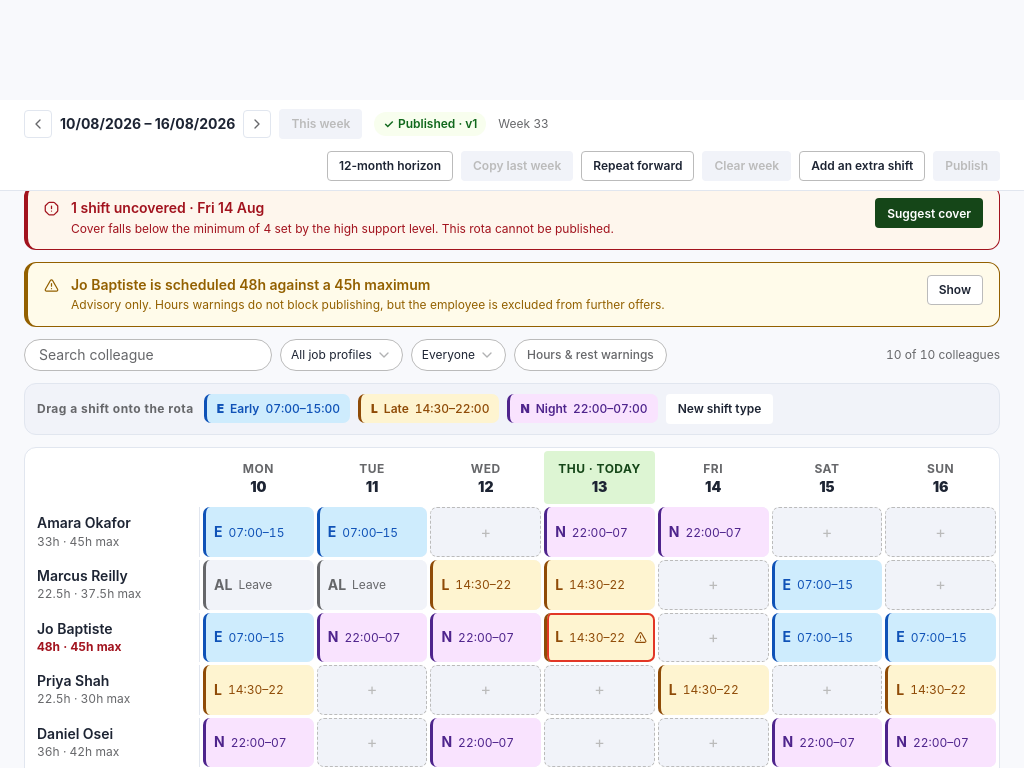
Test: Team rota › renders the published week: the week bar, the gap banner, the grid with its cover row and key, the day view and the history, with full test id coverage
The width and height of the screenshot is (1024, 768).
Expected: the text with test id "trota-week-label" reads "10/08/2026 – 16/08/2026", [60,115,235,132]
Expected: the element with test id "trota-state" shows "Published · v1", [374,112,486,136]
Type "Amara" into the search field with test id "trota-search". click: point(148, 355)
box: [24,339,272,371]
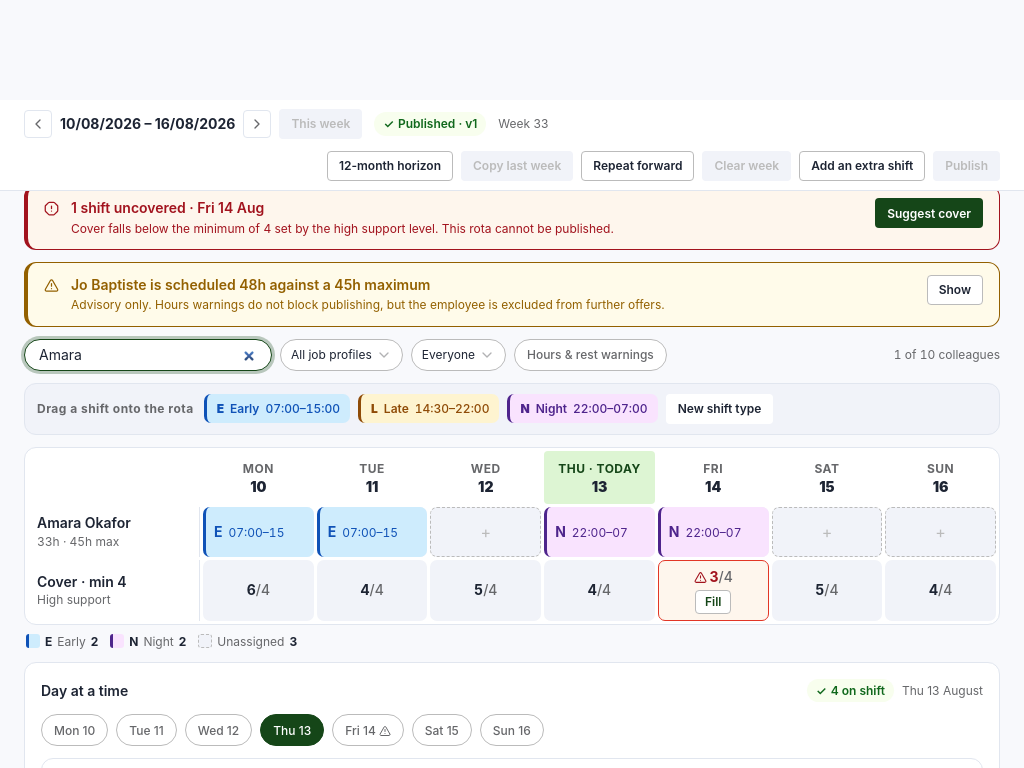
Now the text with test id "trota-count" reads "1 of 10 colleagues", box [894,346,1000,364]
